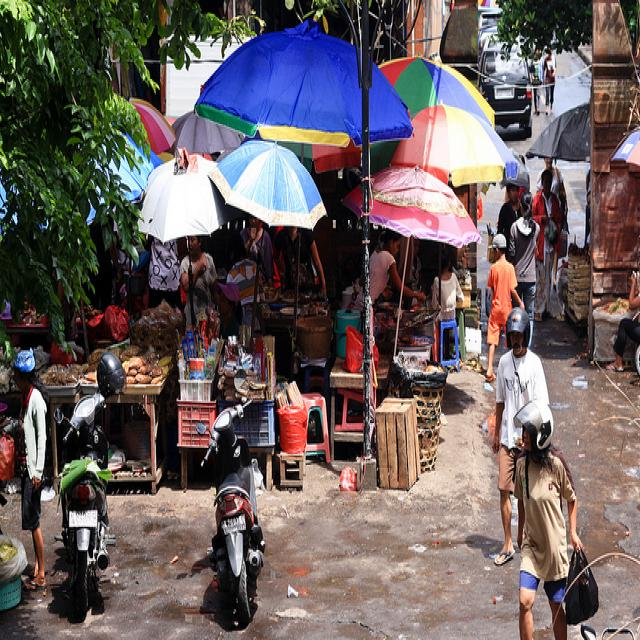motor: (196, 376, 265, 628), (53, 394, 111, 622)
